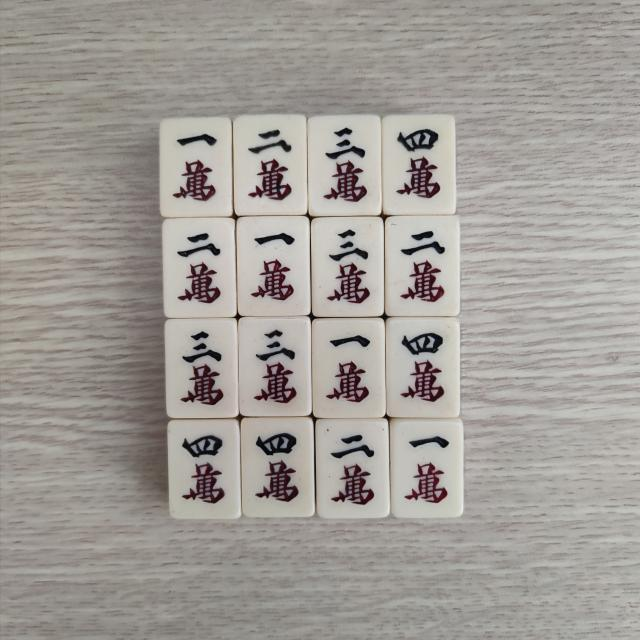sc1: (167, 122, 230, 212), (244, 222, 304, 310), (320, 326, 378, 409), (398, 427, 454, 509)
sc2: (238, 121, 303, 208), (391, 220, 454, 307), (320, 424, 383, 510), (168, 227, 229, 310)
sc3: (170, 325, 233, 408), (316, 122, 376, 208), (318, 222, 377, 308), (248, 322, 306, 409)
sc4: (391, 320, 452, 410), (389, 121, 451, 208), (247, 424, 305, 512), (177, 427, 234, 513)
